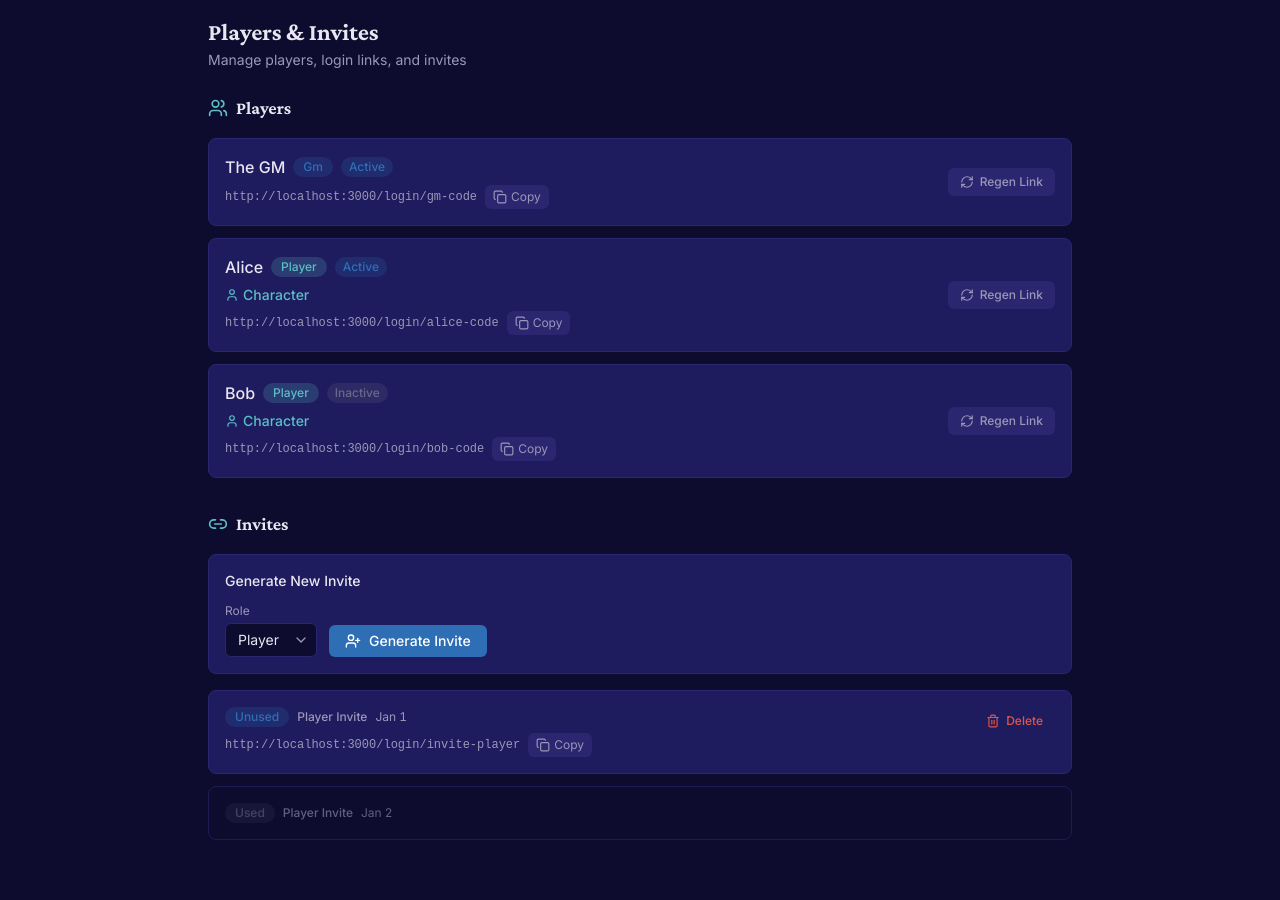
Scenario: GmPlayersPage — invite management › shows a confirm modal before deleting an invite
Click the button with aria-label "delete invite".
click(1015, 721)  # box top-left (974, 707), bottom-right (1055, 735)
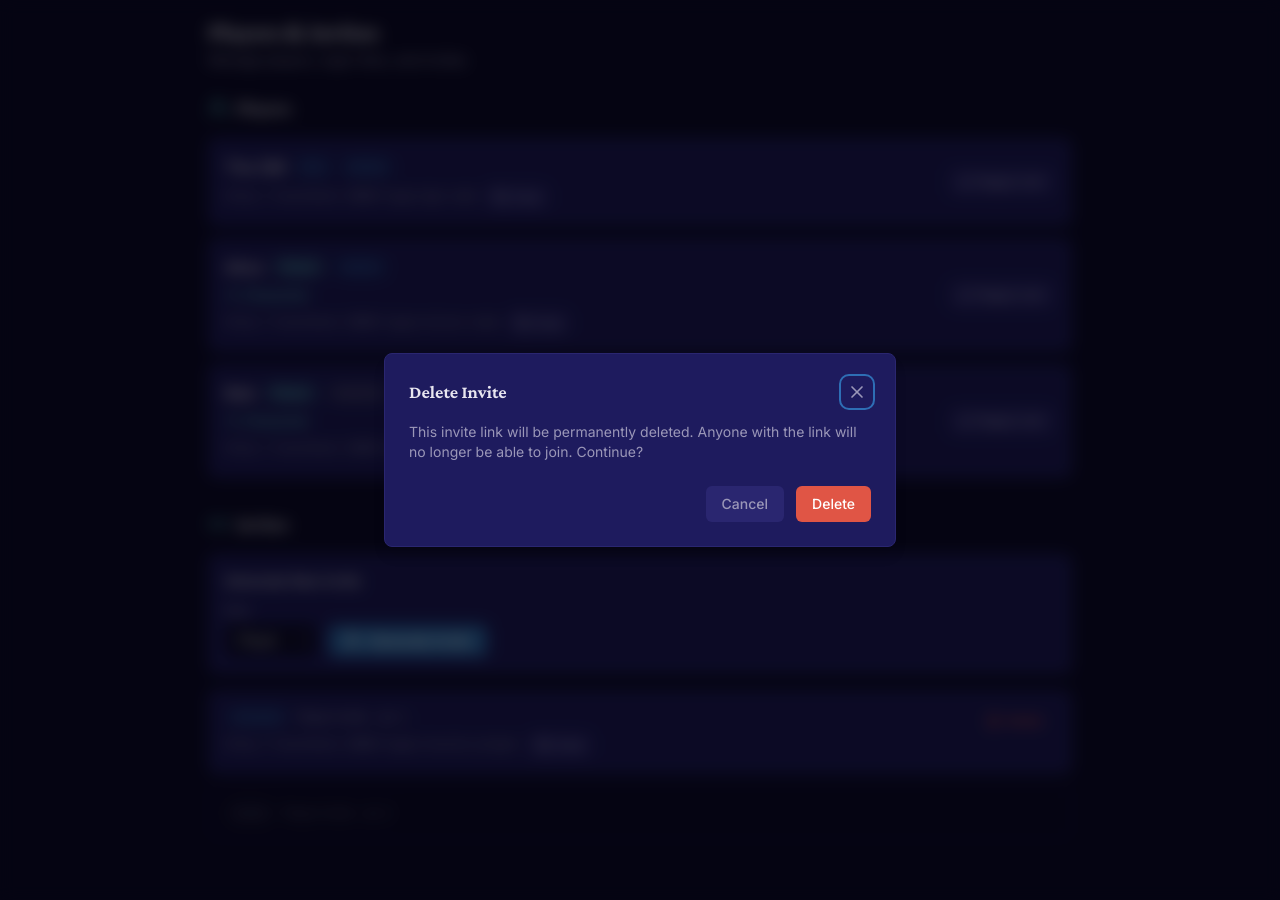
Now the heading "Delete Invite" is shown, box top-left (409, 378), bottom-right (506, 406)
